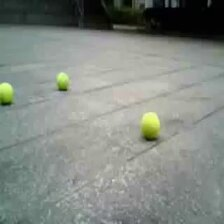tennis: (140, 112, 160, 138), (1, 82, 15, 103), (56, 72, 71, 88)
